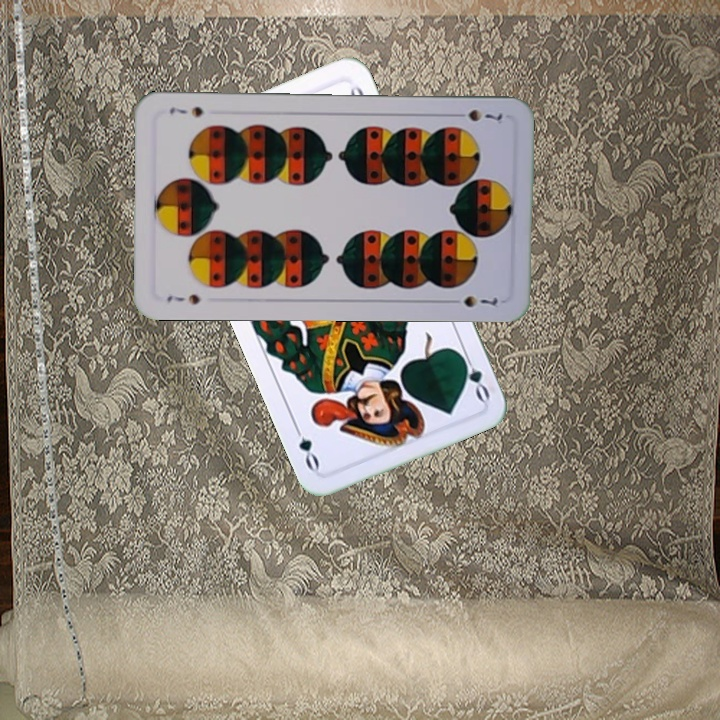GO: (454, 346, 493, 404)
S7: (449, 105, 507, 124), (163, 290, 202, 307)
